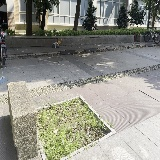fire: (57, 38, 64, 44)
